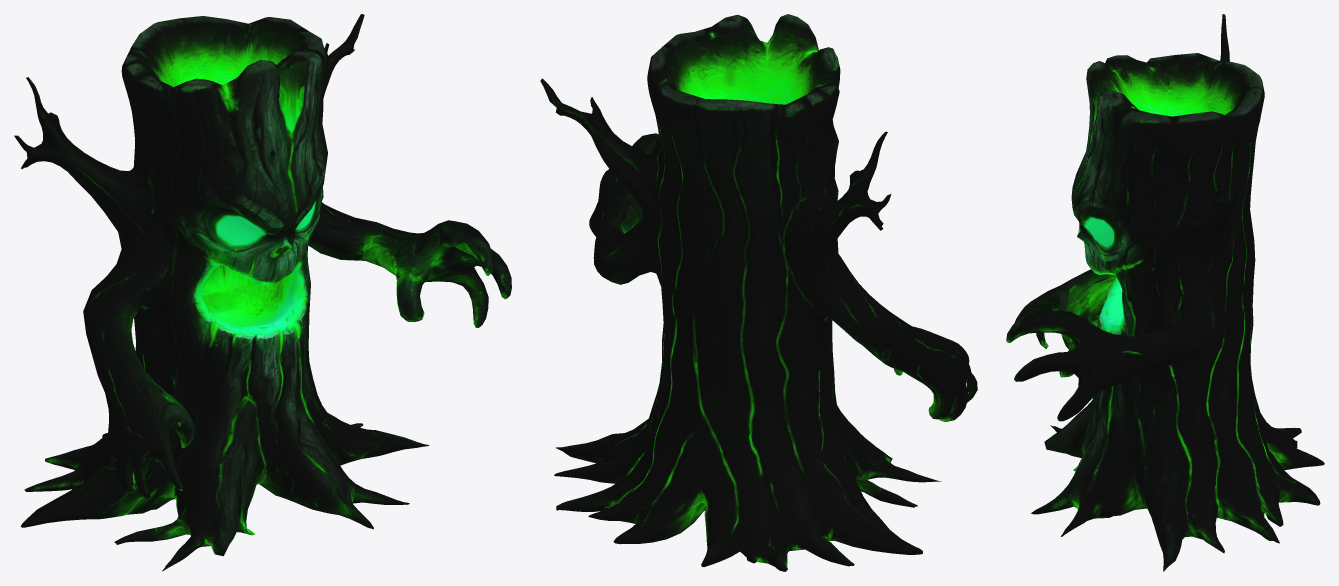
The model's file is tree_green.gltf.
The picture shows the model from 3 angles, left to right: view 1: azimuth 30°, elevation 25°; view 2: azimuth 150°, elevation 25°; view 3: azimuth 270°, elevation 25°; orthographic projection. The views are drawn at different scales.
Visible parts, largest first — view 1: tree_green; view 2: tree_green; view 3: tree_green.
Part boxes in pixels (x1=…): tree_green: x1=14, y1=14, x2=511, y2=571; tree_green: x1=540, y1=14, x2=977, y2=571; tree_green: x1=1006, y1=14, x2=1324, y2=571.
Bounding box in the file's own units: 1.72 × 1.9 × 1.31.
Materials: 1 (1 with a texture image).
